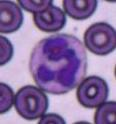N: (29, 34, 86, 94)
